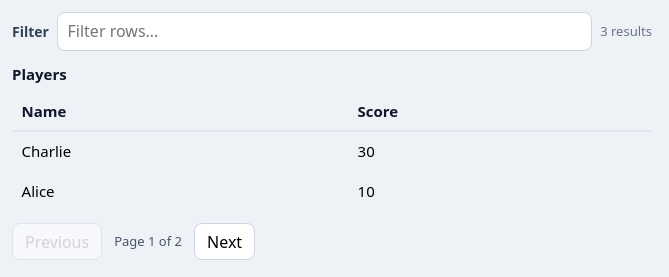
Test: DataTable › paginates and clamps at the ends
Expected: the text "Page 1 of 2" is shown, x1=114 y1=232 x2=182 y2=252
Expected: the button "Previous" is disabled, x1=12 y1=223 x2=102 y2=260
Click the button "Next".
click(225, 242)  # box x1=194 y1=223 x2=255 y2=260
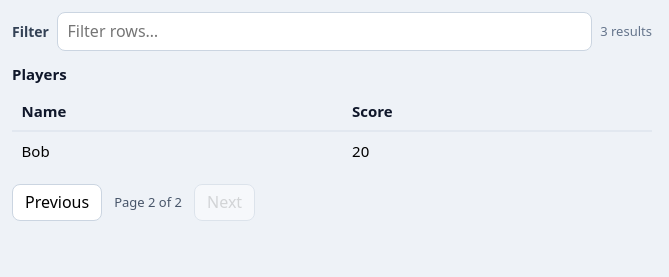
Now the text "Page 2 of 2" is shown, box x1=114 y1=192 x2=182 y2=212
Now the button "Next" is disabled, box x1=194 y1=184 x2=255 y2=221
